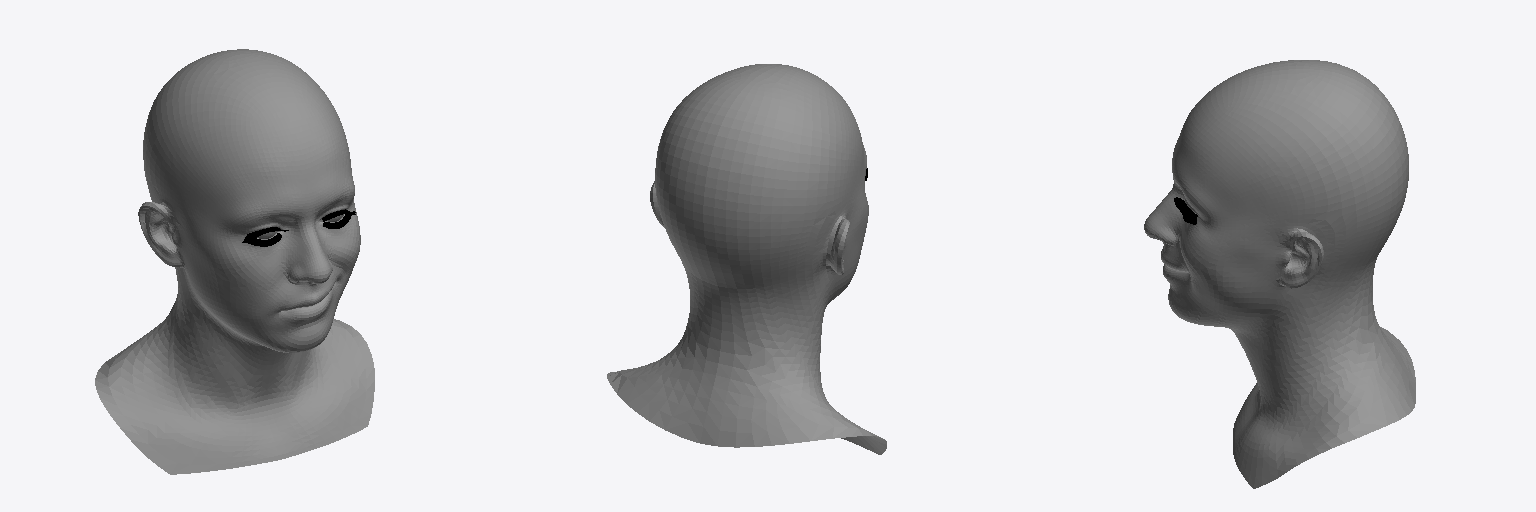
Rendered from mouthSmile_L.obj.
3 views of the same model, side by side, from view 1: azimuth 30°, elevation 25°; view 2: azimuth 150°, elevation 25°; view 3: azimuth 270°, elevation 25° (orthographic).
Bounding box in the file's own units: 24.83 × 33.81 × 22.31.